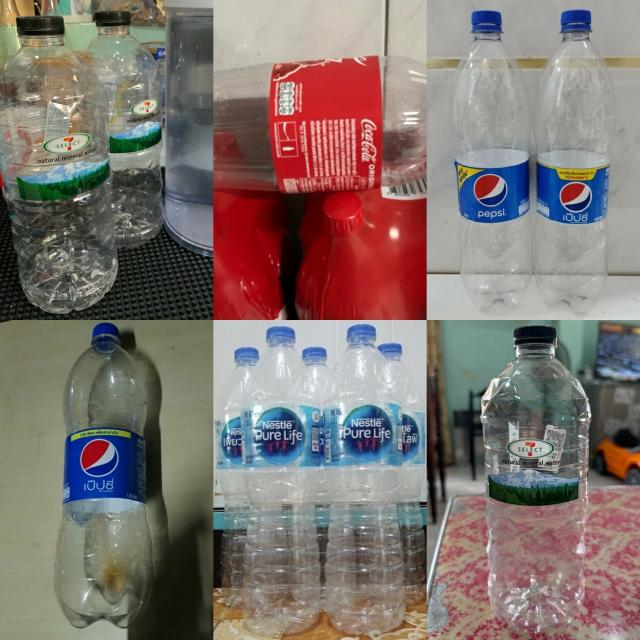plastik: (0, 16, 118, 312), (481, 325, 591, 633), (55, 323, 152, 628), (214, 56, 426, 193), (322, 324, 405, 634), (241, 327, 322, 635), (534, 10, 615, 315), (450, 10, 532, 311), (81, 11, 162, 248), (379, 343, 426, 604), (215, 347, 259, 604)
